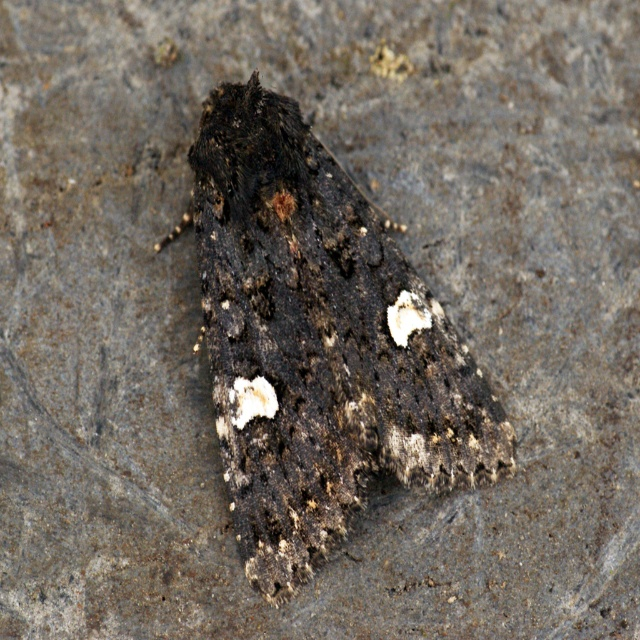Moths and butterflies: (147, 66, 521, 618)
